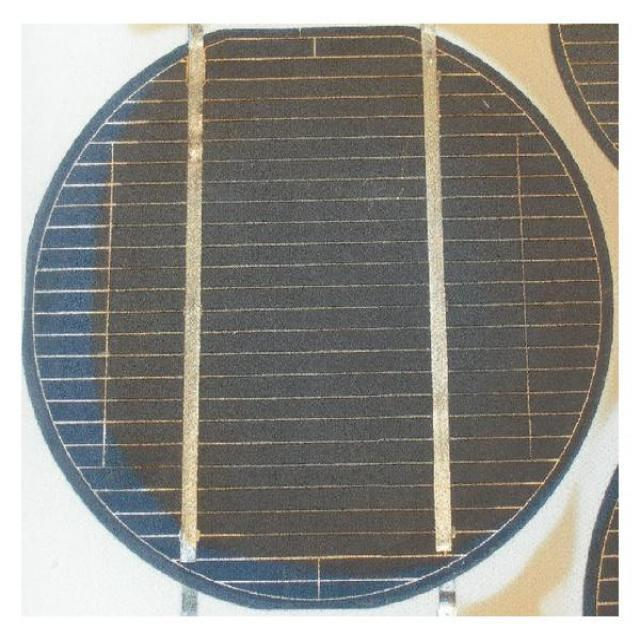faulty: (135, 78, 562, 544)
